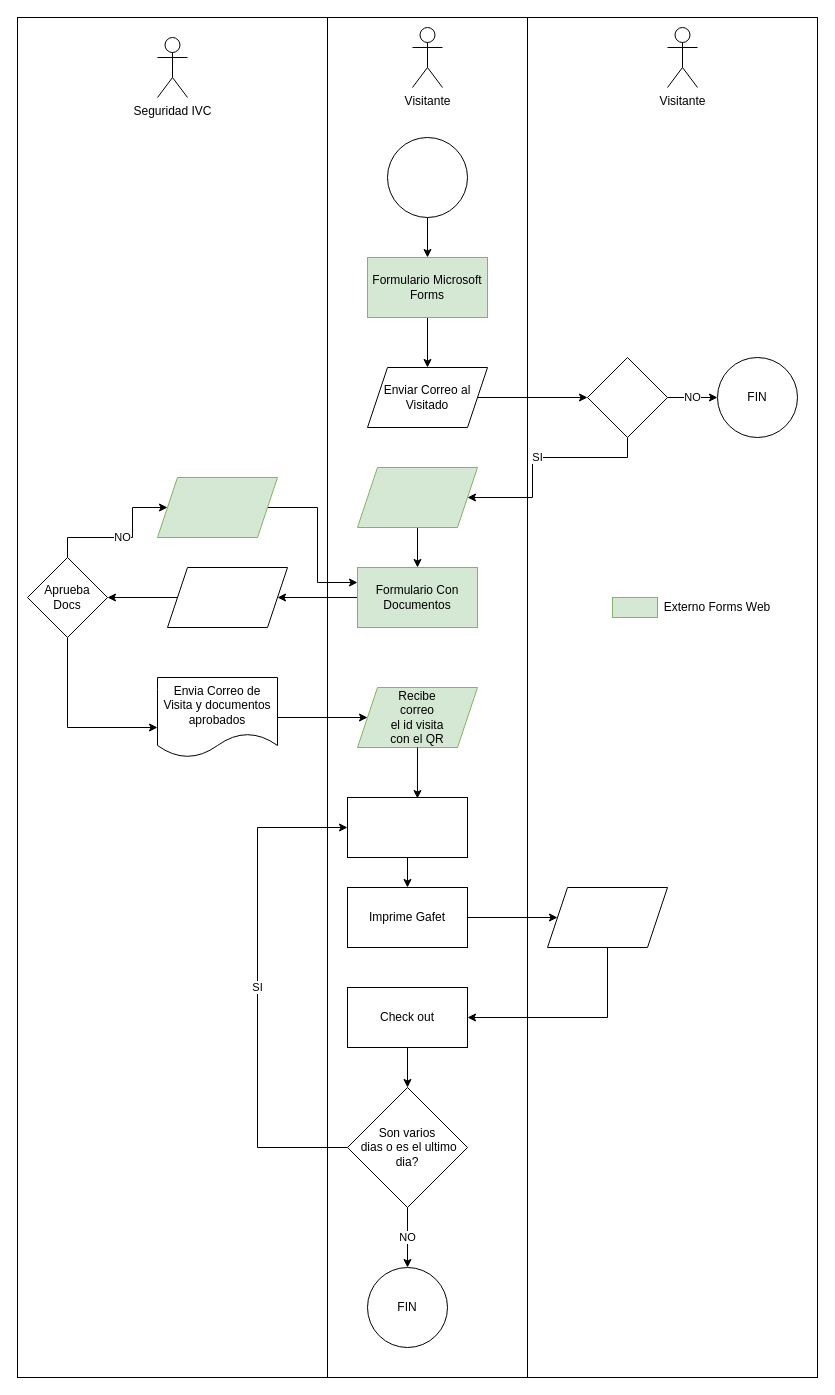
This 835x1395 diagram has some shape labels left out. The shapes that lost their labels are listed below. From the top down, each one's centre as x and y in pixels, then its label:
point (427, 177): INICIO
point (627, 397): Aprueba Visita
point (217, 507): Envia Correo al usuario Con los Docs no Aprobados
point (417, 497): Correo de Aprobación Visita
point (227, 597): Correo usuario sube docs
point (407, 827): Llegada a IVC Entra con el QR
point (607, 917): Notifica al Visitado
